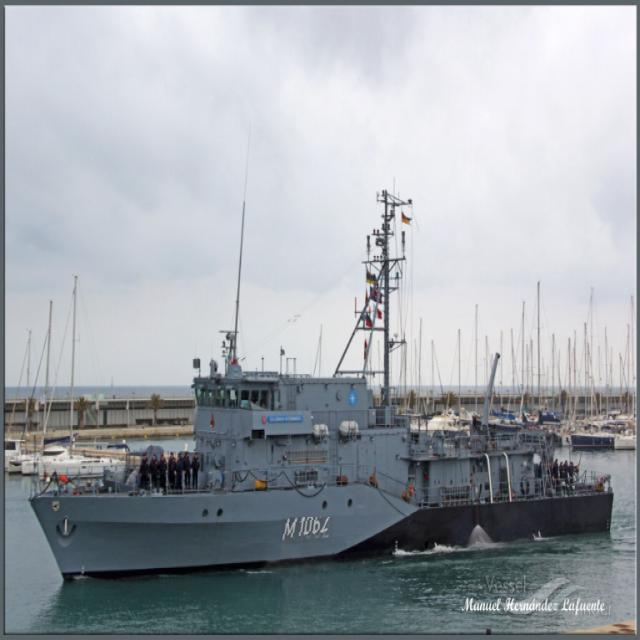OCR: (282, 518, 332, 544)
